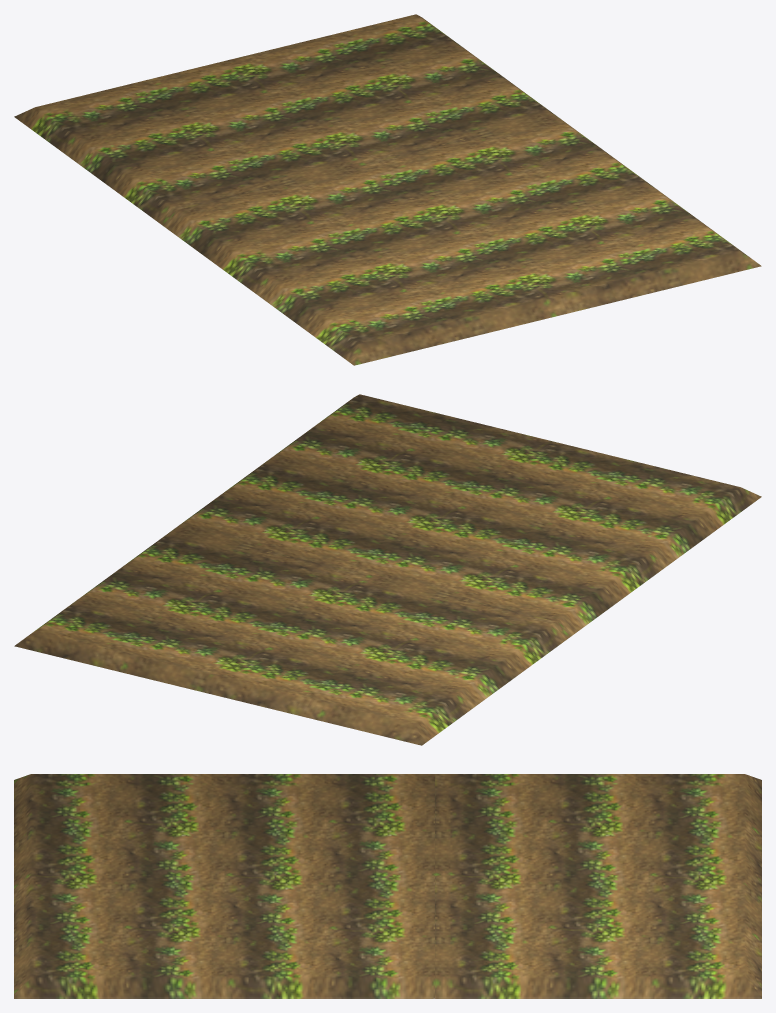
File: tudi.FBX
3 views of the same model, one above another, from view 1: azimuth 30°, elevation 25°; view 2: azimuth 150°, elevation 25°; view 3: azimuth 270°, elevation 25° (orthographic). The views are drawn at different scales.
Visible parts, largest first — view 1: tudi; view 2: tudi; view 3: tudi.
Boxes of the visible parts, box(x1,y1,x2,y2) form: tudi: box(14, 14, 761, 365); tudi: box(14, 394, 761, 745); tudi: box(14, 774, 761, 998).
Size of the model in its own units: 1123 by 31.46 by 1621.
